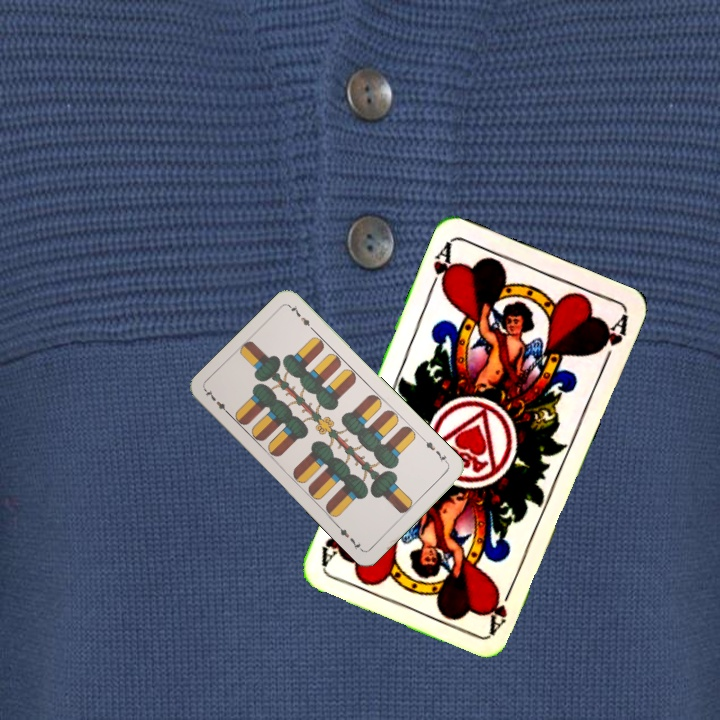E7: (201, 385, 233, 418), (420, 435, 452, 467)
HA: (424, 237, 457, 295), (484, 579, 517, 636)
